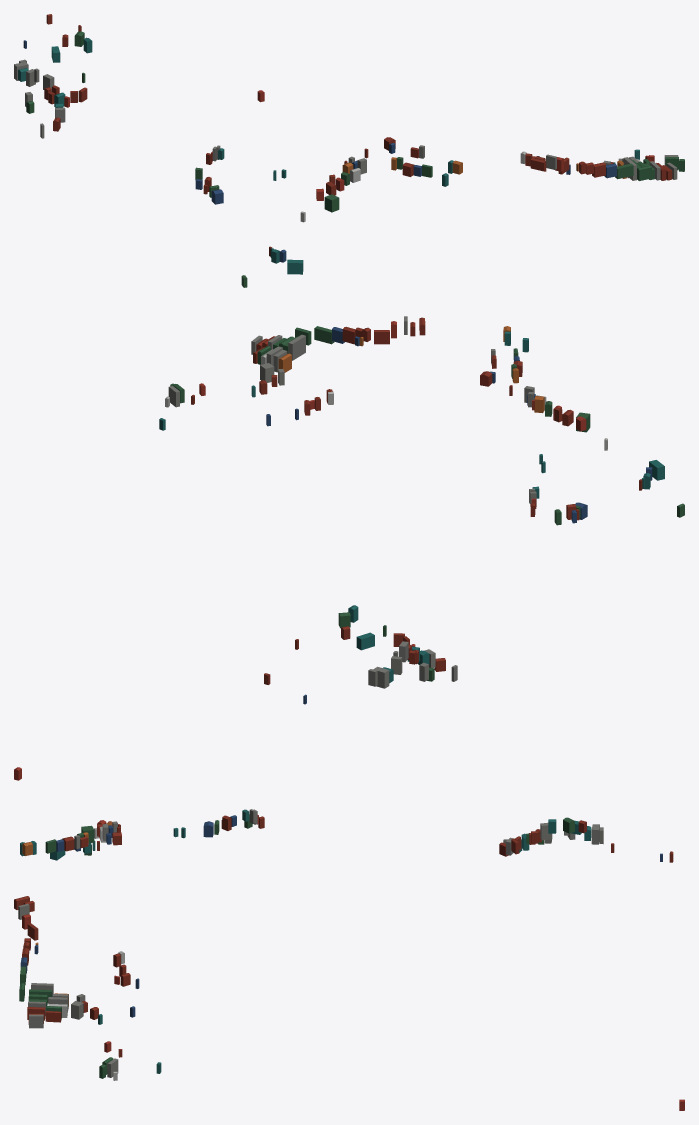
Rendered from near-15-27354-14864.2c93ed6e.glb.
3 views of the same model, one above another, from view 1: azimuth 30°, elevation 25°; view 2: azimuth 150°, elevation 25°; view 3: azimuth 270°, elevation 25° (orthographic). The views are drawn at different scales.
Bounding box in the file's own units: 933 × 397 × 1165.
